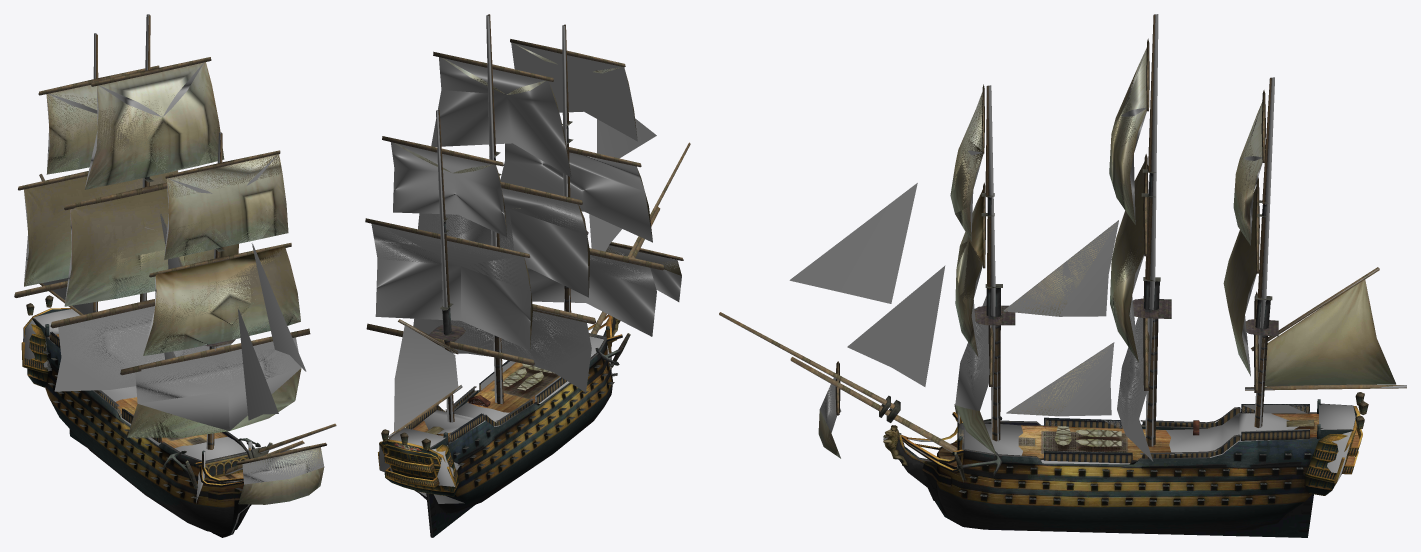
File: F_Monster_100.fbx
The picture shows the model from 3 angles, left to right: view 1: azimuth 30°, elevation 25°; view 2: azimuth 150°, elevation 25°; view 3: azimuth 270°, elevation 25°; orthographic projection. The views are drawn at different scales.
Parts seen in each view (by area): view 1: U_F_Ship_04_Sail, U_F_Ship_04_Fakeshadow, U_F_Ship_04; view 2: U_F_Ship_04_Fakeshadow, U_F_Ship_04, U_F_Ship_04_Sail; view 3: U_F_Ship_04, U_F_Ship_04_Fakeshadow, U_F_Ship_04_Sail.
Part boxes in pixels (x1=…): U_F_Ship_04_Sail: x1=24, y1=62, x2=324, y2=504; U_F_Ship_04_Fakeshadow: x1=23, y1=14, x2=335, y2=537; U_F_Ship_04: x1=14, y1=15, x2=336, y2=537; U_F_Ship_04_Fakeshadow: x1=371, y1=14, x2=689, y2=503; U_F_Ship_04: x1=365, y1=14, x2=690, y2=537; U_F_Ship_04_Sail: x1=394, y1=43, x2=681, y2=348; U_F_Ship_04: x1=719, y1=14, x2=1406, y2=537; U_F_Ship_04_Fakeshadow: x1=719, y1=14, x2=1406, y2=482; U_F_Ship_04_Sail: x1=818, y1=48, x2=1395, y2=458.
Size of the model in its own units: 0.7617 by 1.79 by 2.11.
Materials: 2 (1 with a texture image).
